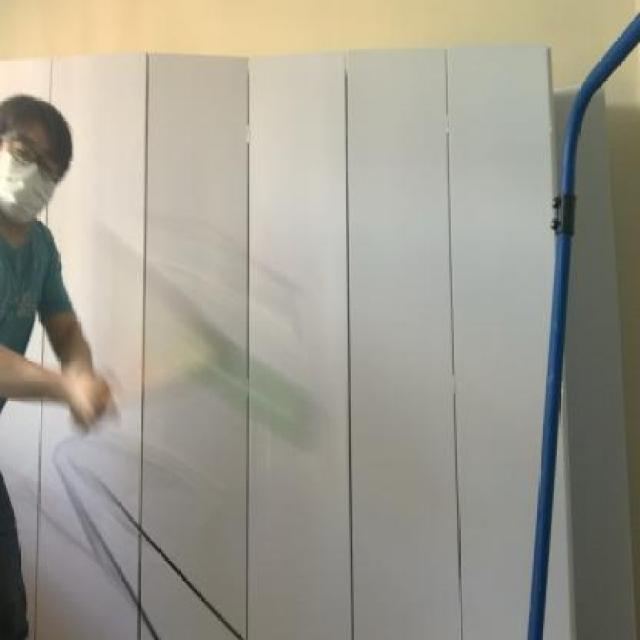baseball: (222, 338, 328, 459)
